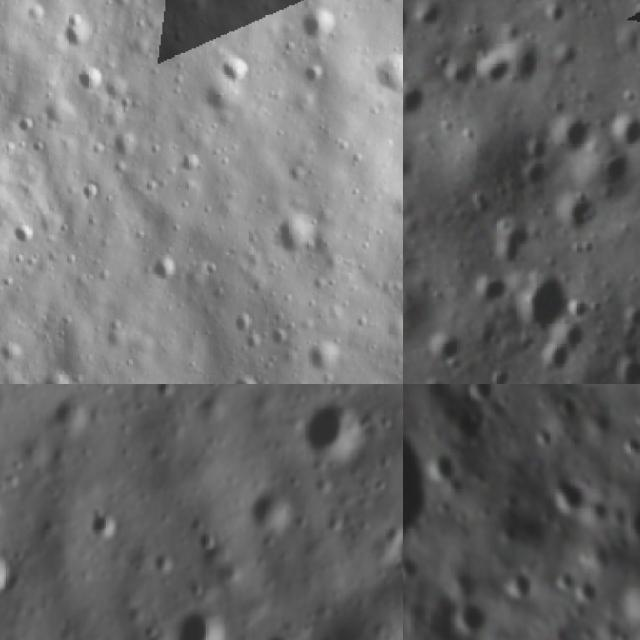crater: (403, 411, 429, 557), (259, 209, 324, 266), (305, 397, 364, 456), (277, 0, 339, 52), (520, 278, 570, 329), (541, 468, 586, 522), (368, 41, 403, 102), (140, 252, 189, 294), (298, 335, 344, 377), (0, 208, 43, 250), (428, 439, 464, 488), (222, 48, 258, 96), (167, 615, 235, 640), (192, 82, 231, 125), (69, 60, 108, 103), (258, 496, 298, 534), (57, 13, 94, 53), (0, 543, 23, 603), (612, 574, 640, 623), (556, 200, 600, 230), (21, 363, 83, 384), (86, 499, 117, 541), (276, 160, 313, 194), (259, 322, 295, 356), (477, 53, 514, 86), (453, 384, 508, 406), (502, 566, 534, 603), (224, 309, 262, 340), (192, 522, 226, 556), (612, 423, 640, 463), (614, 114, 640, 153), (461, 598, 486, 634), (564, 117, 590, 150), (610, 357, 640, 384), (511, 165, 543, 190), (560, 385, 582, 418), (524, 137, 555, 159), (550, 570, 580, 592), (403, 86, 425, 115), (623, 504, 640, 541), (430, 339, 460, 359), (577, 580, 596, 602), (403, 561, 422, 583), (224, 373, 257, 384)
